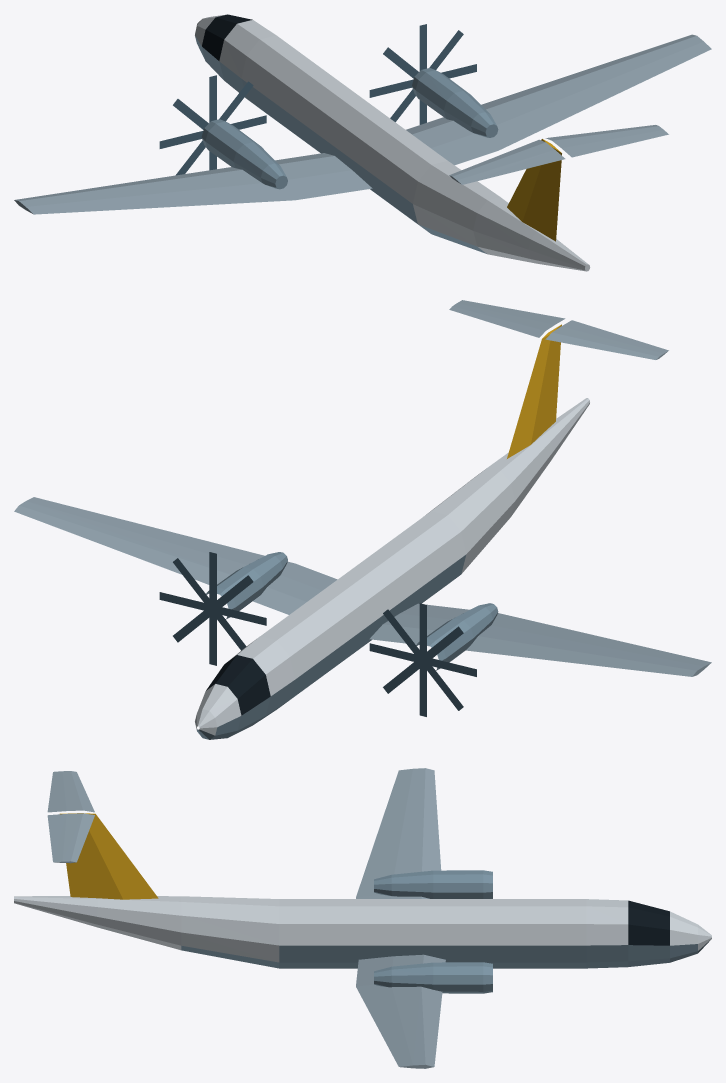
The picture shows the model from 3 angles, top to bottom: view 1: azimuth 30°, elevation 25°; view 2: azimuth 150°, elevation 25°; view 3: azimuth 270°, elevation 25°; orthographic projection. The views are drawn at different scales.
Visible parts, largest first — view 1: lod0; view 2: lod0; view 3: lod0.
Part boxes in pixels (bbox=[...]): lod0: bbox=[14, 14, 711, 271]; lod0: bbox=[14, 300, 711, 739]; lod0: bbox=[14, 768, 711, 1068].
Size of what is drawn, in the model's own units: 1.01 by 0.2694 by 1.
